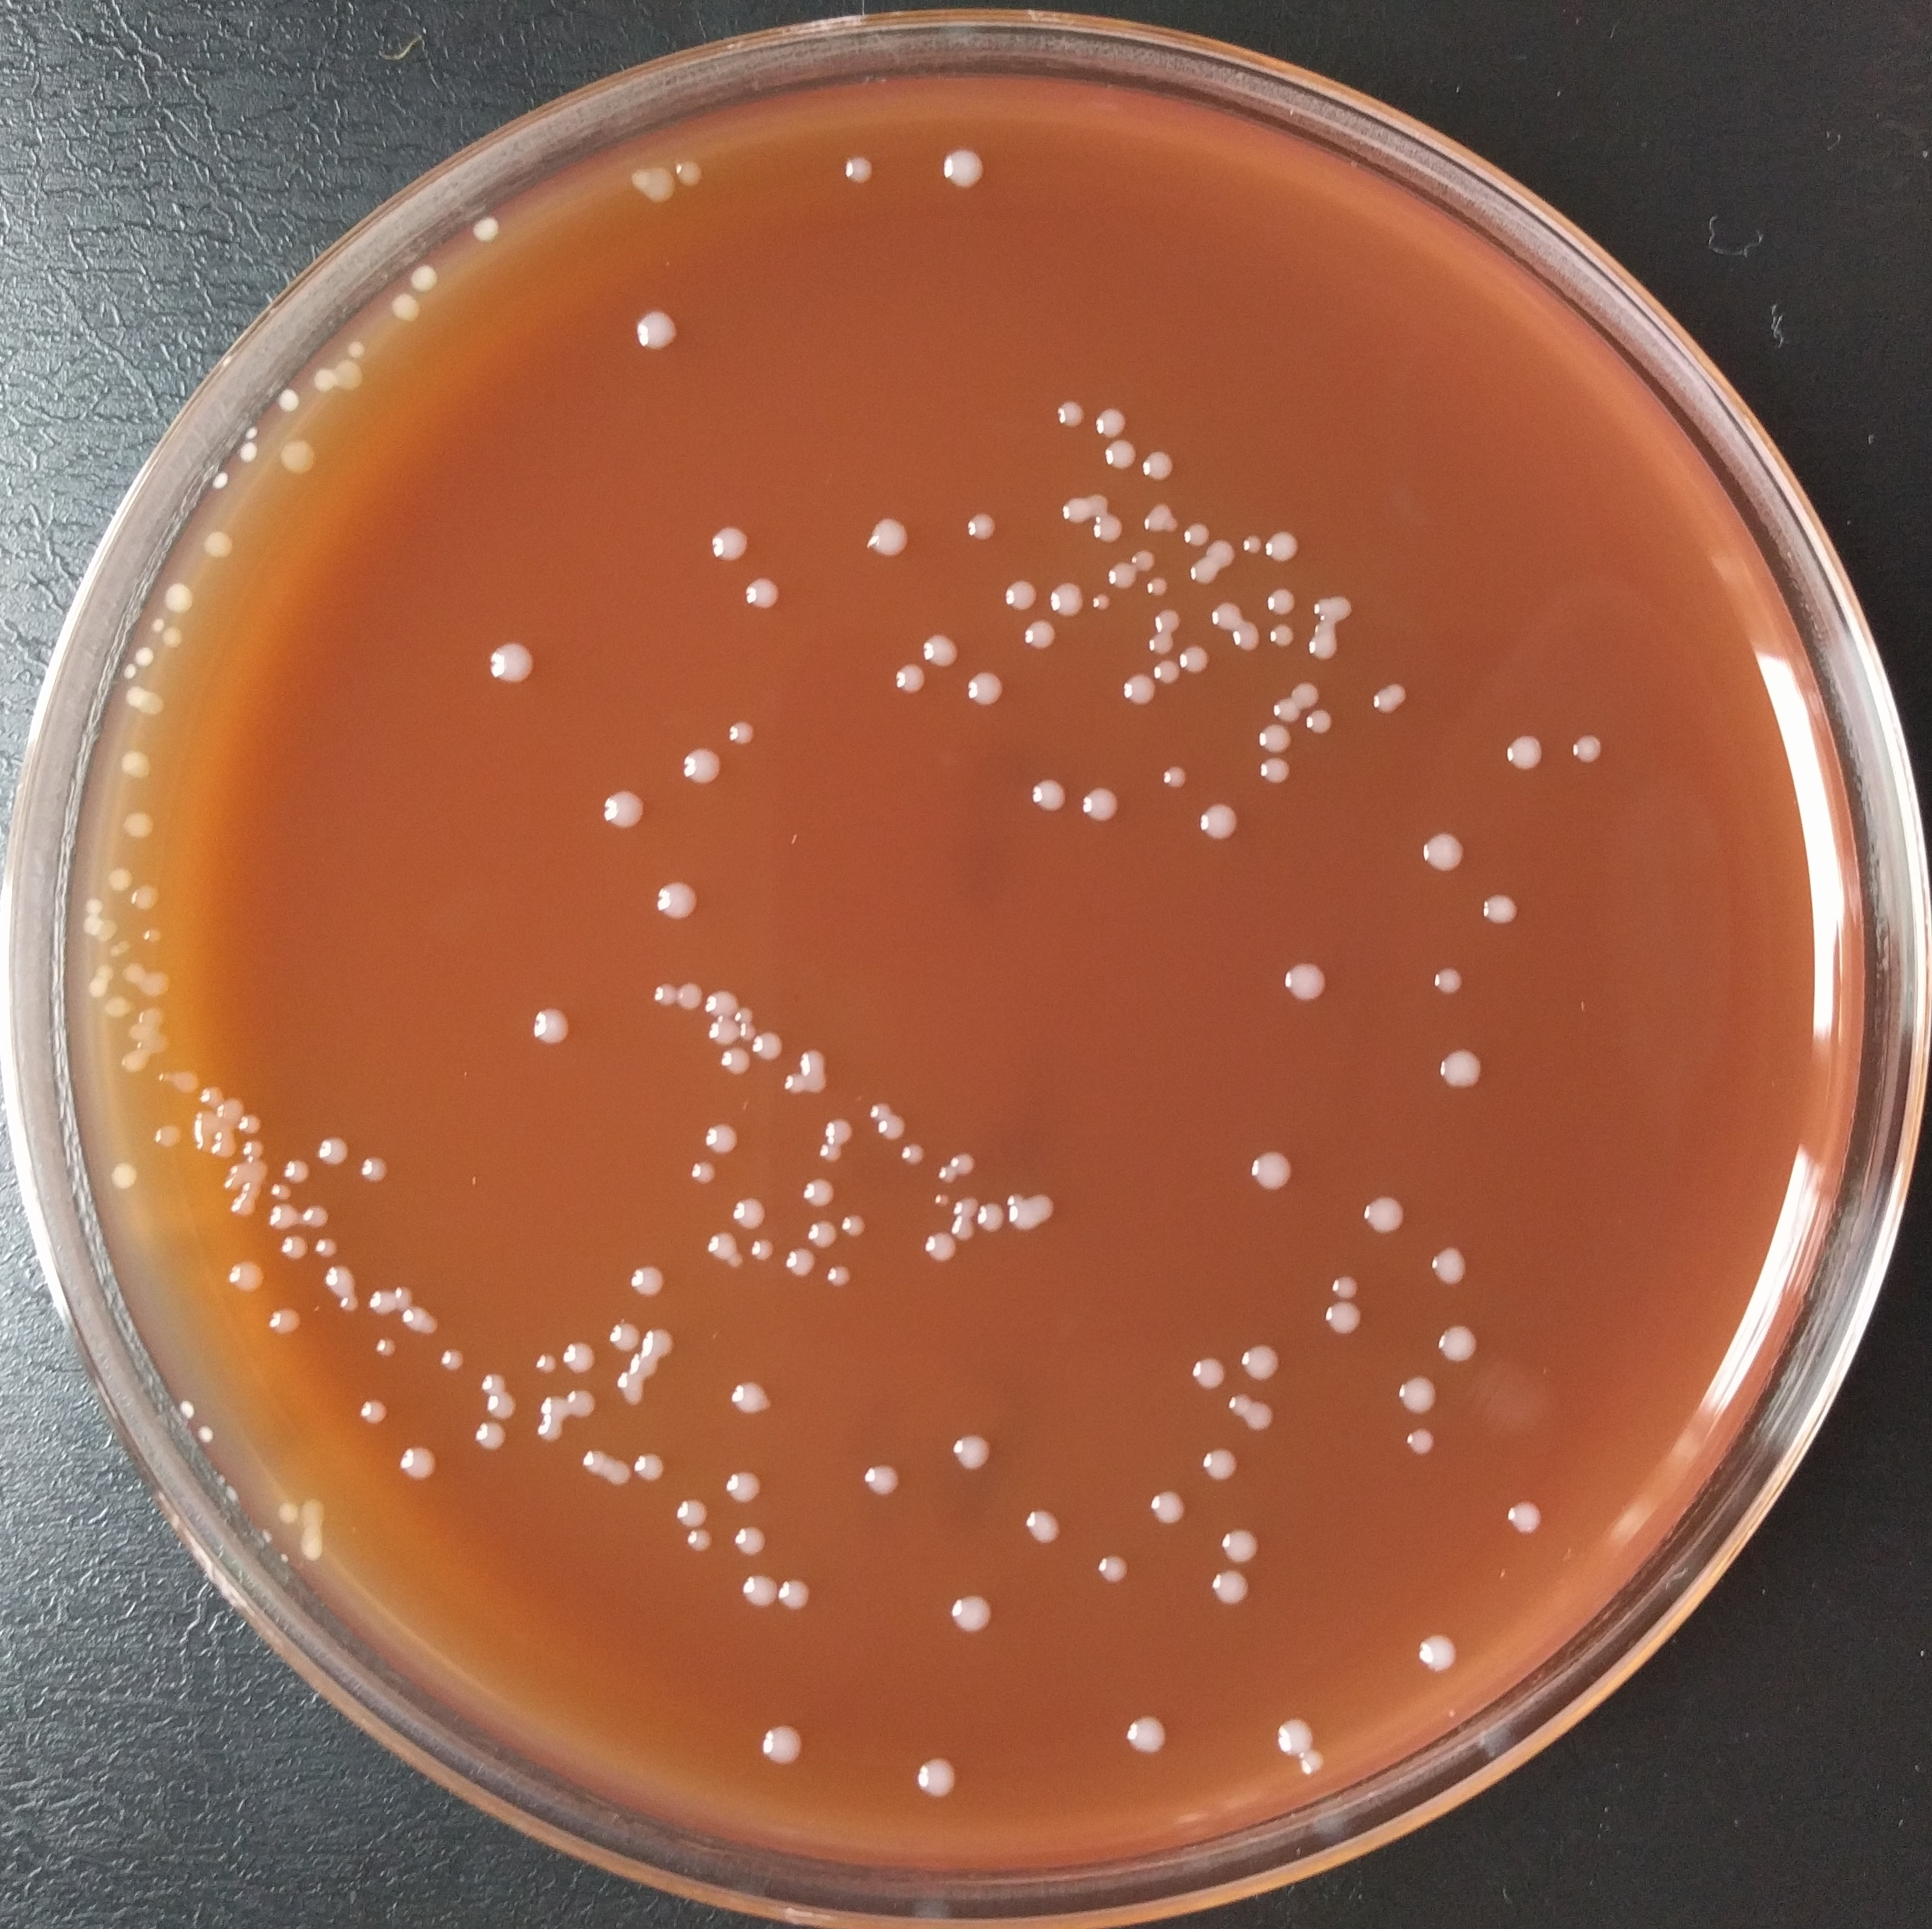sp16: (1116, 1708, 1173, 1761), (277, 433, 336, 480), (911, 1751, 961, 1805), (862, 512, 913, 562), (758, 1722, 811, 1770), (486, 639, 535, 687), (947, 1595, 1000, 1639), (1215, 1526, 1270, 1569), (1501, 1498, 1559, 1537), (1429, 1245, 1476, 1291), (1439, 1046, 1485, 1093), (625, 164, 676, 207), (634, 307, 682, 352), (599, 788, 646, 832), (1395, 1371, 1443, 1415), (1505, 728, 1547, 777), (962, 666, 1014, 707), (1360, 1194, 1406, 1238), (1420, 830, 1468, 873), (943, 147, 987, 191), (532, 1003, 576, 1048), (1415, 1627, 1457, 1673), (1434, 1321, 1480, 1364), (657, 880, 699, 924), (920, 627, 962, 671), (1282, 961, 1328, 1002), (728, 1376, 774, 1417), (1208, 1569, 1254, 1609), (948, 1433, 996, 1471), (396, 1445, 443, 1484), (1252, 1148, 1294, 1191), (682, 744, 722, 788), (1199, 800, 1238, 846), (710, 523, 752, 564), (1024, 1505, 1065, 1547), (1259, 528, 1303, 567), (738, 1572, 779, 1613), (1148, 1487, 1190, 1526), (120, 742, 159, 784), (1137, 445, 1176, 486), (1201, 1447, 1241, 1486), (774, 1574, 814, 1613), (1568, 731, 1607, 772), (1321, 1298, 1363, 1335), (330, 352, 366, 396), (1480, 892, 1526, 926), (1104, 435, 1143, 473), (1275, 1717, 1314, 1756), (1003, 574, 1040, 615), (1091, 405, 1132, 442), (1309, 594, 1355, 625), (1079, 784, 1118, 821), (1030, 775, 1067, 814), (729, 1524, 770, 1560), (1240, 1346, 1282, 1380), (1121, 671, 1158, 708), (892, 661, 927, 700), (1021, 620, 1060, 655), (729, 1196, 768, 1231), (641, 1323, 680, 1358), (1049, 581, 1083, 622), (468, 208, 509, 242), (703, 1122, 740, 1157), (629, 1263, 666, 1298), (609, 1373, 646, 1408), (472, 1420, 509, 1456), (1430, 964, 1468, 1000), (1141, 503, 1180, 537), (864, 1461, 902, 1494), (726, 1470, 765, 1503), (918, 1231, 957, 1265), (562, 1339, 595, 1378), (357, 1152, 396, 1185), (203, 528, 237, 567), (1088, 512, 1128, 544), (1305, 620, 1337, 661), (1185, 1355, 1226, 1387), (159, 583, 200, 615), (841, 152, 876, 187), (800, 1175, 835, 1210), (565, 1387, 600, 1422), (1400, 1426, 1436, 1461), (129, 880, 164, 915), (805, 1217, 842, 1251), (124, 806, 155, 844), (1252, 722, 1293, 753), (671, 1498, 712, 1528), (390, 290, 420, 330), (298, 1493, 328, 1533), (745, 576, 781, 609), (1178, 643, 1211, 678), (1151, 652, 1185, 687), (1231, 620, 1264, 655), (1264, 583, 1300, 617), (140, 966, 173, 1002), (962, 511, 1000, 542), (224, 1161, 272, 1185), (1363, 684, 1393, 722), (1256, 756, 1291, 788), (821, 1115, 857, 1146), (754, 1030, 789, 1062), (263, 1203, 300, 1233), (479, 1396, 523, 1420), (1187, 558, 1220, 590), (706, 986, 738, 1019), (281, 1154, 314, 1185), (1098, 1553, 1130, 1586), (325, 1263, 357, 1297), (228, 1263, 263, 1293), (166, 1067, 201, 1097), (1107, 558, 1136, 595), (1160, 760, 1189, 797), (717, 1048, 754, 1076), (316, 1134, 348, 1166), (108, 1161, 140, 1192), (1054, 397, 1088, 427), (1211, 601, 1245, 631), (358, 1396, 392, 1426), (268, 1307, 302, 1337), (632, 1452, 666, 1482), (682, 1526, 715, 1556), (1328, 1272, 1363, 1300), (1026, 1191, 1054, 1226), (148, 1122, 184, 1150), (307, 360, 336, 396), (1291, 678, 1321, 710), (1243, 1399, 1275, 1429), (302, 1199, 332, 1231), (671, 159, 705, 187), (1178, 521, 1211, 549), (533, 1420, 569, 1447), (410, 260, 436, 295), (131, 692, 168, 717), (608, 1320, 638, 1350), (625, 1350, 655, 1380), (675, 982, 706, 1010), (1203, 539, 1234, 567), (786, 1247, 814, 1279), (706, 1019, 738, 1048), (397, 1305, 429, 1334), (191, 1085, 230, 1108), (1307, 707, 1333, 740), (703, 1229, 736, 1256), (117, 684, 150, 710), (1266, 622, 1296, 650), (1300, 1749, 1330, 1777), (1153, 604, 1185, 631), (977, 1199, 1003, 1231), (106, 862, 132, 894), (297, 1533, 323, 1565), (371, 1334, 399, 1362), (724, 719, 754, 745), (948, 1217, 978, 1244), (132, 643, 159, 673), (277, 383, 302, 415), (101, 995, 132, 1019), (214, 1102, 247, 1125), (1060, 496, 1088, 523), (1226, 1392, 1254, 1418), (729, 1002, 758, 1028), (281, 1231, 307, 1260), (230, 1194, 258, 1221), (235, 438, 260, 468), (1144, 632, 1176, 655), (798, 1070, 830, 1093), (1086, 491, 1113, 518), (118, 1048, 145, 1074), (652, 980, 676, 1009), (841, 1212, 869, 1237), (749, 1235, 774, 1263), (948, 1150, 977, 1175), (800, 1048, 830, 1070), (878, 1118, 908, 1141), (539, 1396, 570, 1417), (609, 1457, 630, 1489), (1128, 546, 1153, 572), (691, 1161, 715, 1187), (532, 1350, 558, 1374), (440, 1348, 466, 1373), (313, 1237, 339, 1261), (118, 959, 145, 984), (1390, 680, 1413, 708), (78, 917, 106, 940), (275, 1498, 298, 1526), (1143, 574, 1173, 595), (779, 1069, 800, 1099), (477, 1373, 509, 1392), (1010, 1212, 1035, 1237), (579, 1447, 604, 1471), (367, 1290, 392, 1314), (826, 1268, 853, 1291), (816, 1141, 842, 1164), (161, 625, 187, 648), (394, 1284, 415, 1312), (901, 1141, 925, 1164), (207, 470, 231, 493), (1272, 701, 1298, 722), (238, 1139, 268, 1157), (79, 896, 109, 913), (267, 1180, 291, 1201), (240, 1111, 265, 1132), (210, 1139, 235, 1161), (118, 657, 138, 684), (1240, 533, 1263, 555), (194, 1426, 215, 1449), (867, 1099, 892, 1118), (957, 1196, 982, 1215), (1091, 590, 1113, 611), (738, 1023, 759, 1044), (94, 957, 115, 979), (339, 1291, 358, 1314), (932, 1164, 954, 1184), (344, 339, 367, 357), (147, 613, 170, 631), (175, 1396, 192, 1417), (242, 424, 260, 442), (1005, 1191, 1024, 1207), (143, 927, 164, 942), (931, 1191, 948, 1205)
